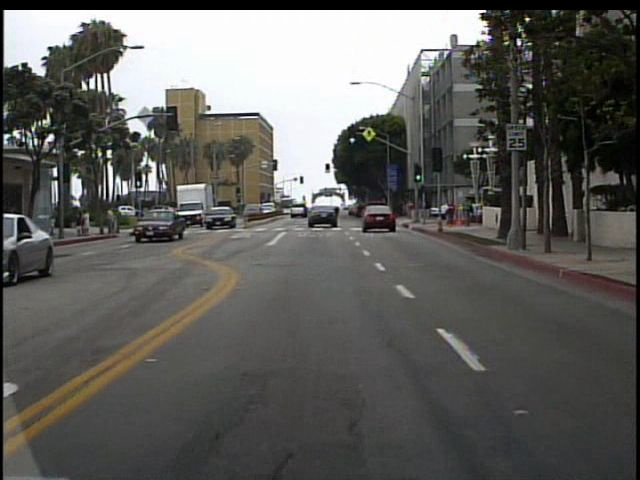person: (107, 204, 120, 238)
